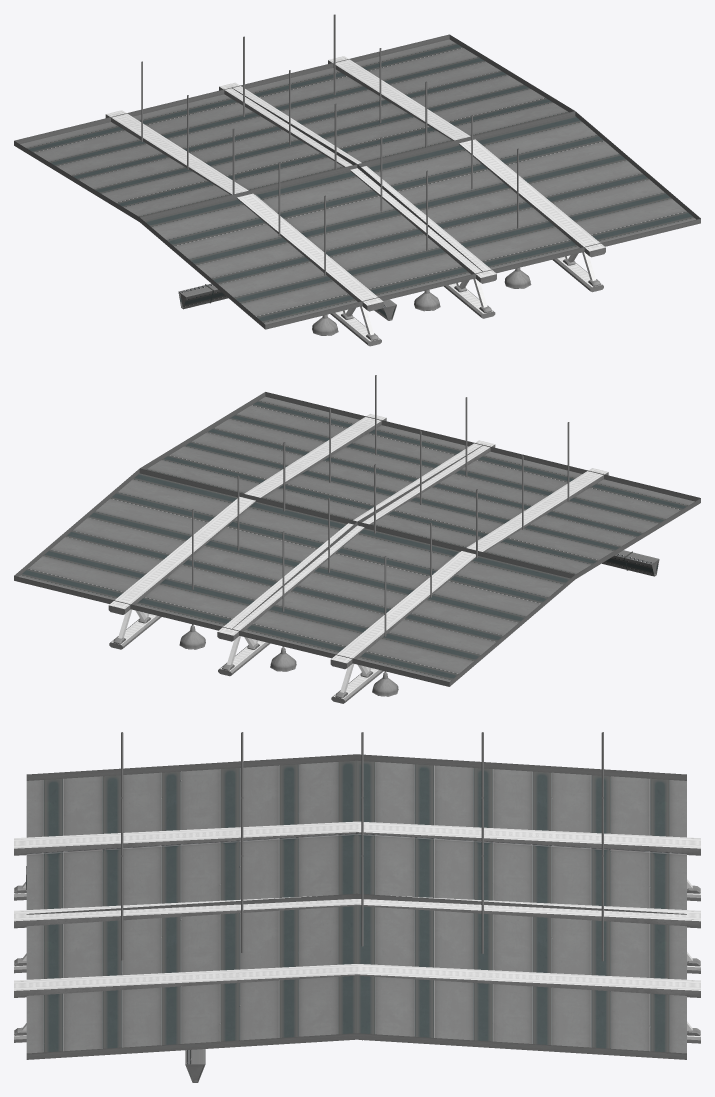
Rendered from Warehouse Roof.fbx.
3 renders of one model, top to bottom at view 1: azimuth 30°, elevation 25°; view 2: azimuth 150°, elevation 25°; view 3: azimuth 270°, elevation 25°, orthographic. The views are drawn at different scales.
Parts seen in each view (by area): view 1: Roof, Roof.001, Girder Slot, Girder Slot.002, Girder Slot.001, Girder, Girder.002, Girder.001, Vent.003, Light Fixture.007, Light Fixture.017, Light Fixture.012; view 2: Roof, Roof.001, Girder, Girder.002, Girder.001, Girder Slot, Girder Slot.002, Girder Slot.001, Vent.003, Light Fixture.008, Light Fixture.013, Light Fixture; view 3: Roof.001, Roof, Girder, Girder Slot, Girder.002, Girder Slot.002, Girder.001, Girder Slot.001, Vent.002.
Part boxes in pixels (x1,y1,x2,y2): Roof: (232, 34, 700, 273); Roof.001: (14, 87, 482, 329); Girder Slot: (459, 139, 605, 292); Girder Slot.002: (237, 193, 383, 346); Girder Slot.001: (350, 166, 496, 318); Girder: (328, 56, 470, 140); Girder.002: (105, 110, 248, 194); Girder.001: (219, 82, 361, 167); Vent.003: (178, 283, 228, 309); Light Fixture.007: (504, 148, 531, 288); Light Fixture.017: (312, 195, 338, 335); Light Fixture.012: (414, 170, 440, 311); Roof: (14, 392, 483, 630); Roof.001: (231, 445, 700, 686); Girder: (108, 497, 255, 649); Girder.002: (330, 551, 475, 703); Girder.001: (217, 523, 364, 676); Girder Slot: (239, 413, 386, 501); Girder Slot.002: (462, 468, 608, 554); Girder Slot.001: (348, 440, 495, 527); Vent.003: (602, 550, 659, 576); Light Fixture.008: (270, 531, 296, 671); Light Fixture.013: (372, 556, 398, 696); Light Fixture: (179, 509, 205, 649); Roof.001: (26, 754, 686, 910); Roof: (26, 893, 686, 1059); Girder: (357, 964, 700, 1043); Girder Slot: (14, 964, 357, 1042); Girder.002: (357, 821, 700, 901); Girder Slot.002: (14, 821, 357, 900); Girder.001: (357, 895, 700, 973); Girder Slot.001: (14, 896, 357, 973); Vent.002: (185, 1049, 205, 1082).
Size of the model in its own units: 4011 by 1135 by 4000.
